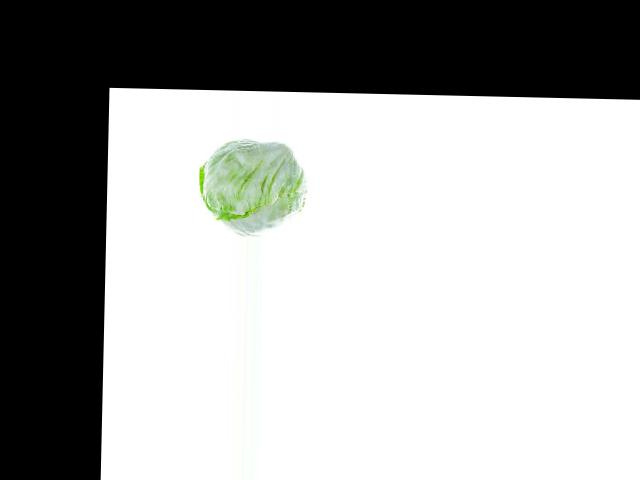lettuce: (200, 143, 307, 235)
